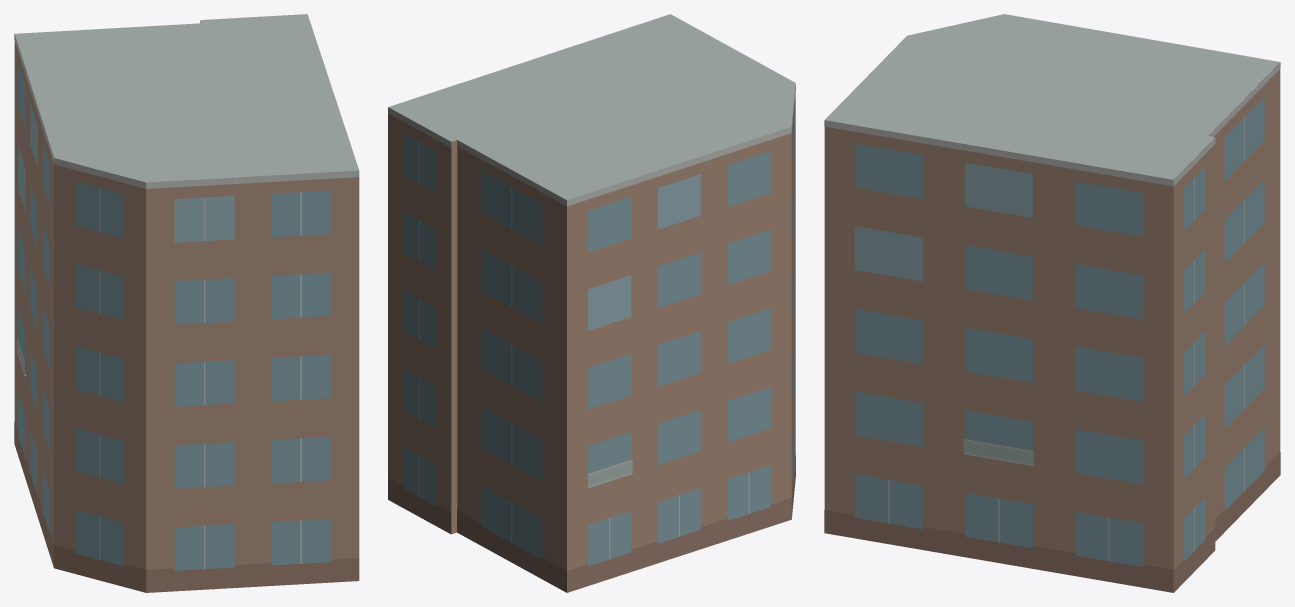
File: survey-upis-32664416.glb
3 views of the same model, side by side, from view 1: azimuth 30°, elevation 25°; view 2: azimuth 150°, elevation 25°; view 3: azimuth 270°, elevation 25° (orthographic). The views are drawn at different scales.
Parts seen in each view (by area): view 1: survey-upis-32664416.tmp; view 2: survey-upis-32664416.tmp; view 3: survey-upis-32664416.tmp.
Part boxes in pixels (<box>): survey-upis-32664416.tmp: <box>14,14,359,592</box>; survey-upis-32664416.tmp: <box>388,14,795,592</box>; survey-upis-32664416.tmp: <box>824,14,1280,592</box>.
Bounding box in the file's own units: 13.44 × 15.6 × 15.62.
